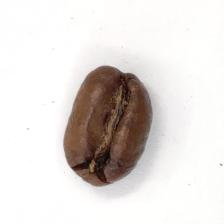NG: (81, 81, 135, 181)
